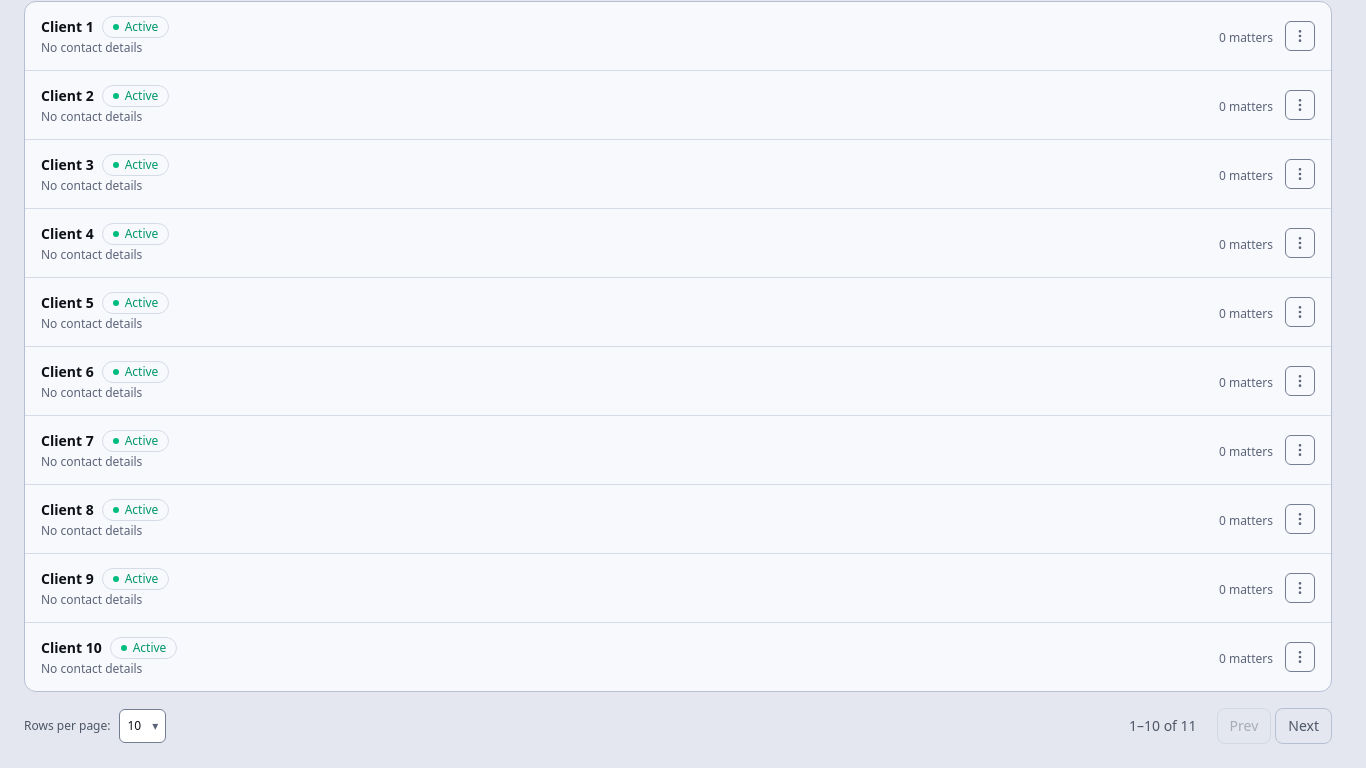
Scenario: ClientViewGrid › shows loading on the clicked pagination button while the next page loads
(page scrolled)
Expected: the text "Client 1" is shown, [41,17,94,37]
Step 1. Click the button "Next" → point(1304, 726), box [1275,708,1332,744]
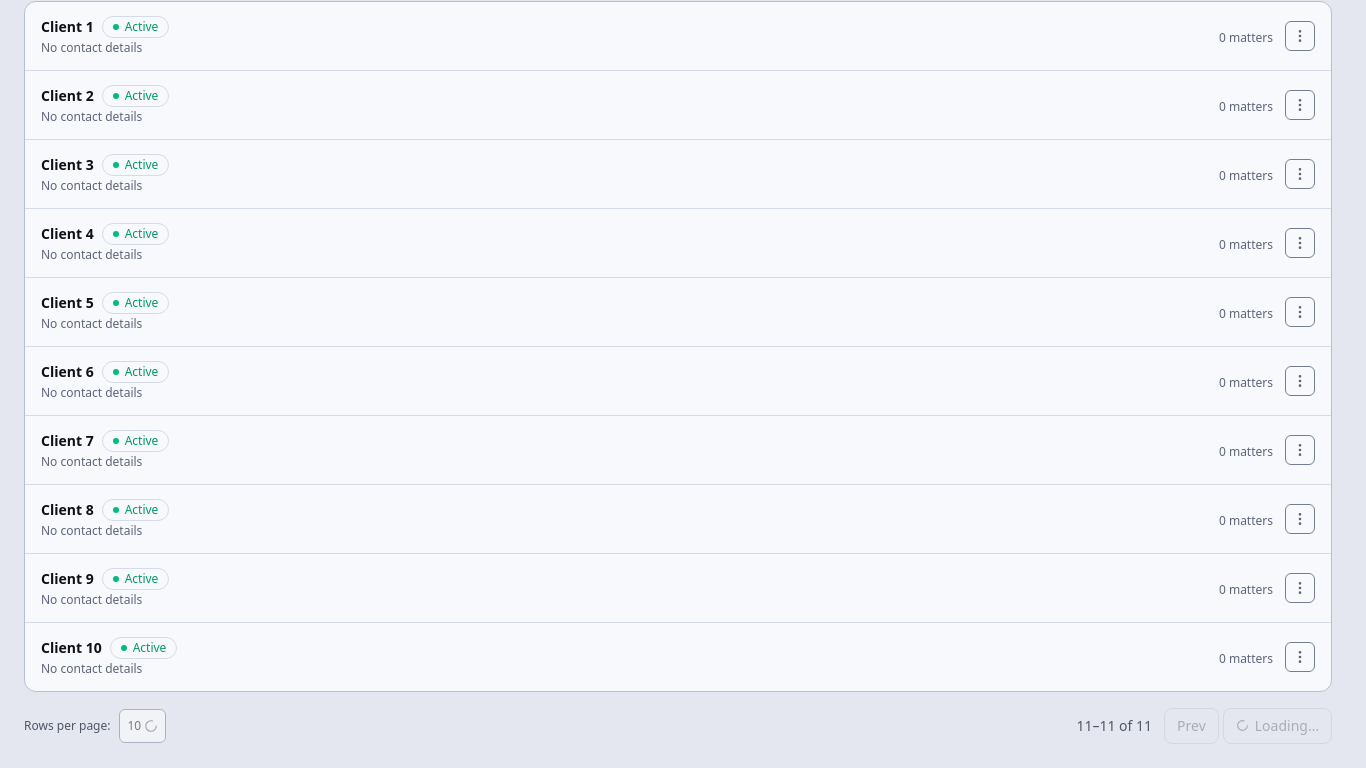
Expected: the text "Client 1" is shown, [41,17,94,37]
Expected: the button "Loading…" is disabled, [1223,708,1332,744]
